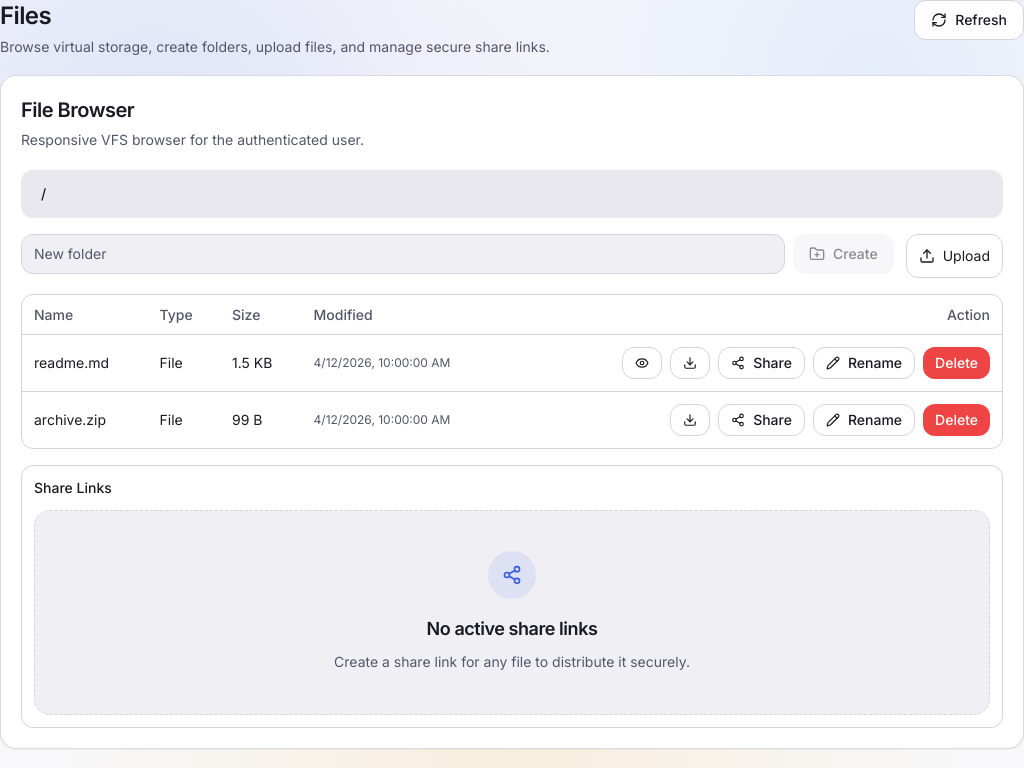
it: FilesPage › previews text files and offers downloads
The image size is (1024, 768).
Expected: the text "1.5 KB" is shown, [220,335,302,392]
Expected: the button named "Download archive.zip" is shown, [670,404,710,436]
Click the button named "Preview readme.md". click: [642, 363]
box: [622,347,662,379]
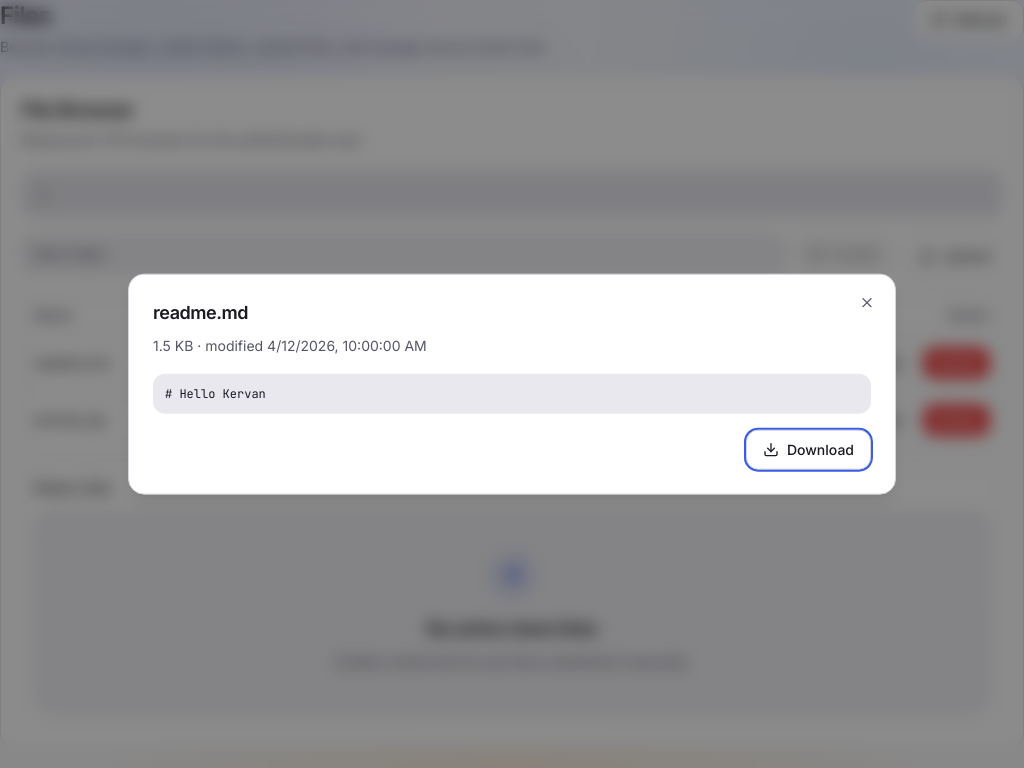
Expected: the text "# Hello Kervan" is shown, [153,373,871,413]
